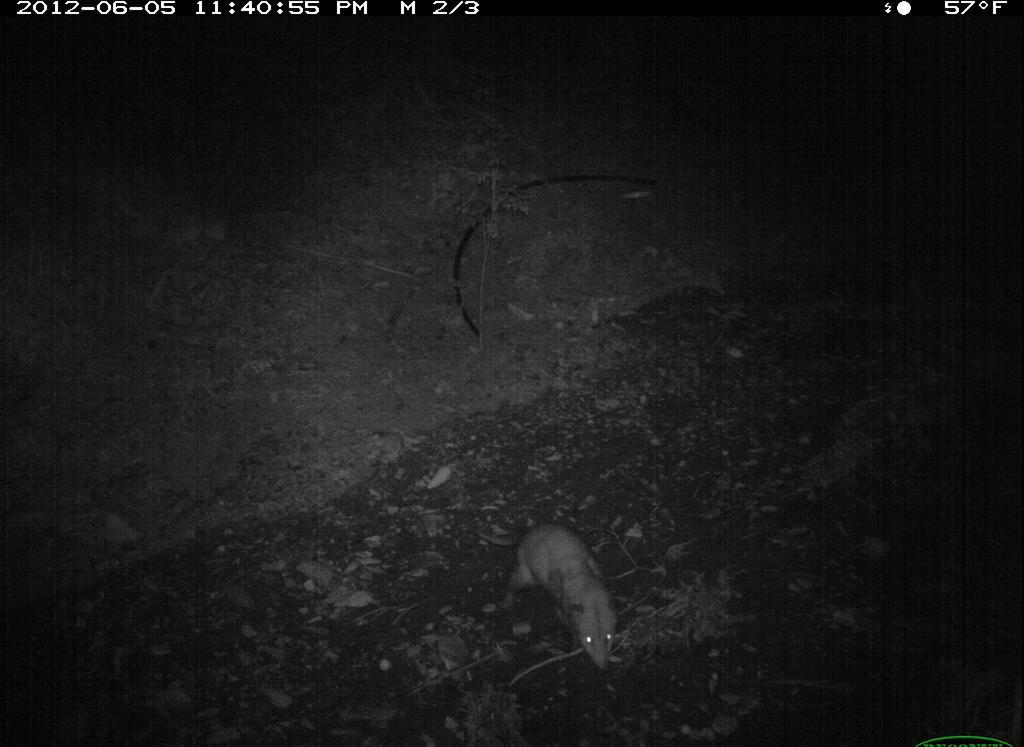opossum: (486, 515, 637, 680)
